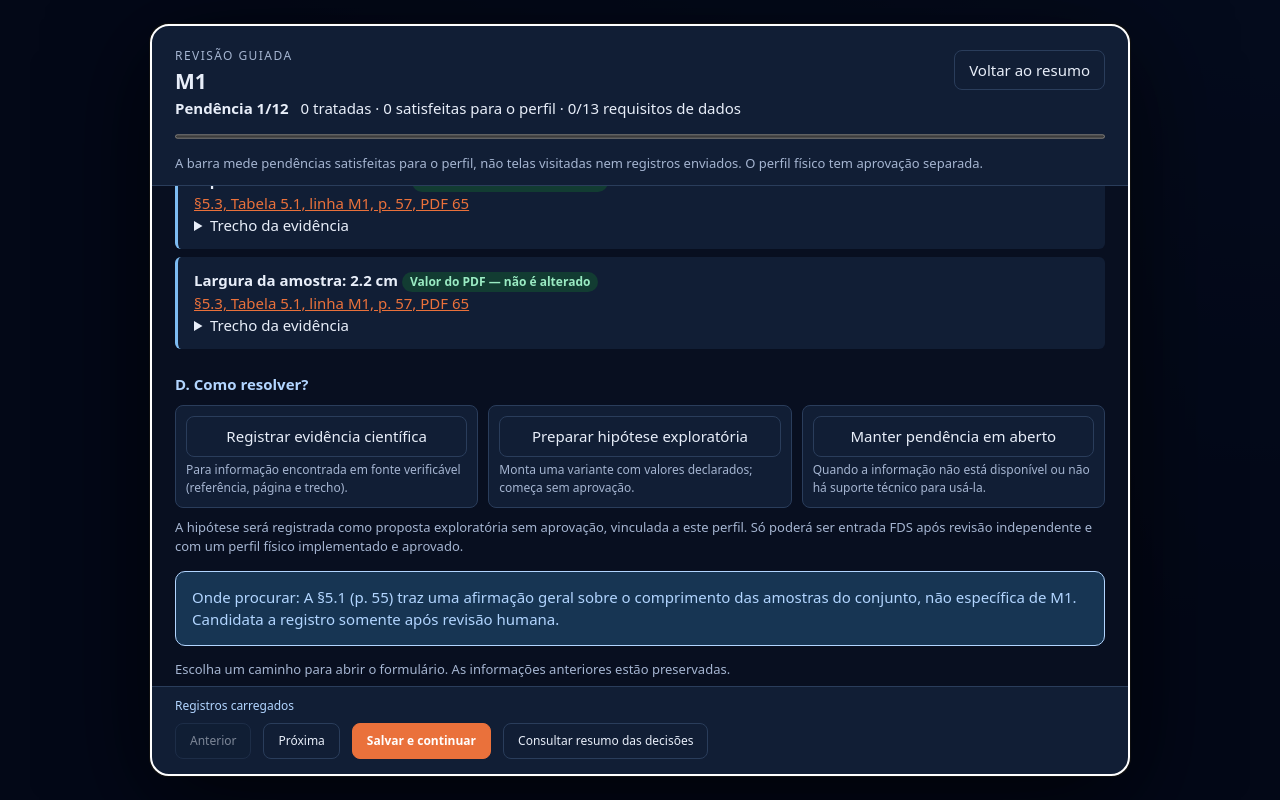
Test case: manter em aberto explica por que os botões estão desabilitados
(page scrolled)
Click the button "Manter pendência em aberto" at (953, 436), box [813,416,1094,456]
(page scrolled)
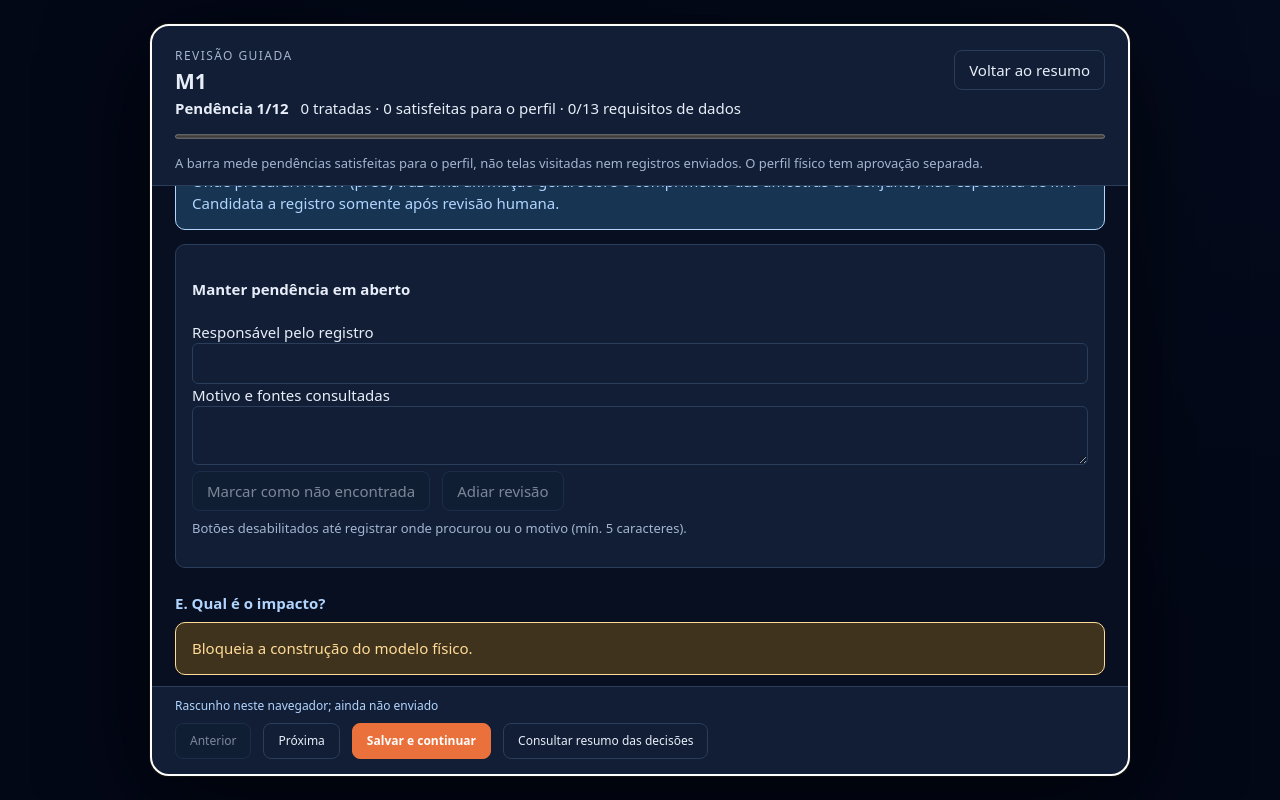
Expected: the button "Marcar como não encontrada" is disabled, [192,471,430,511]
Expected: the text "Botões desabilitados até registrar onde procurou" is shown, [192,519,687,537]
Type "Consultei o capítulo 5 e a tese relacionada" into the text box labelled "Motivo e fontes consultadas" at (640, 436), box [192,406,1088,465]
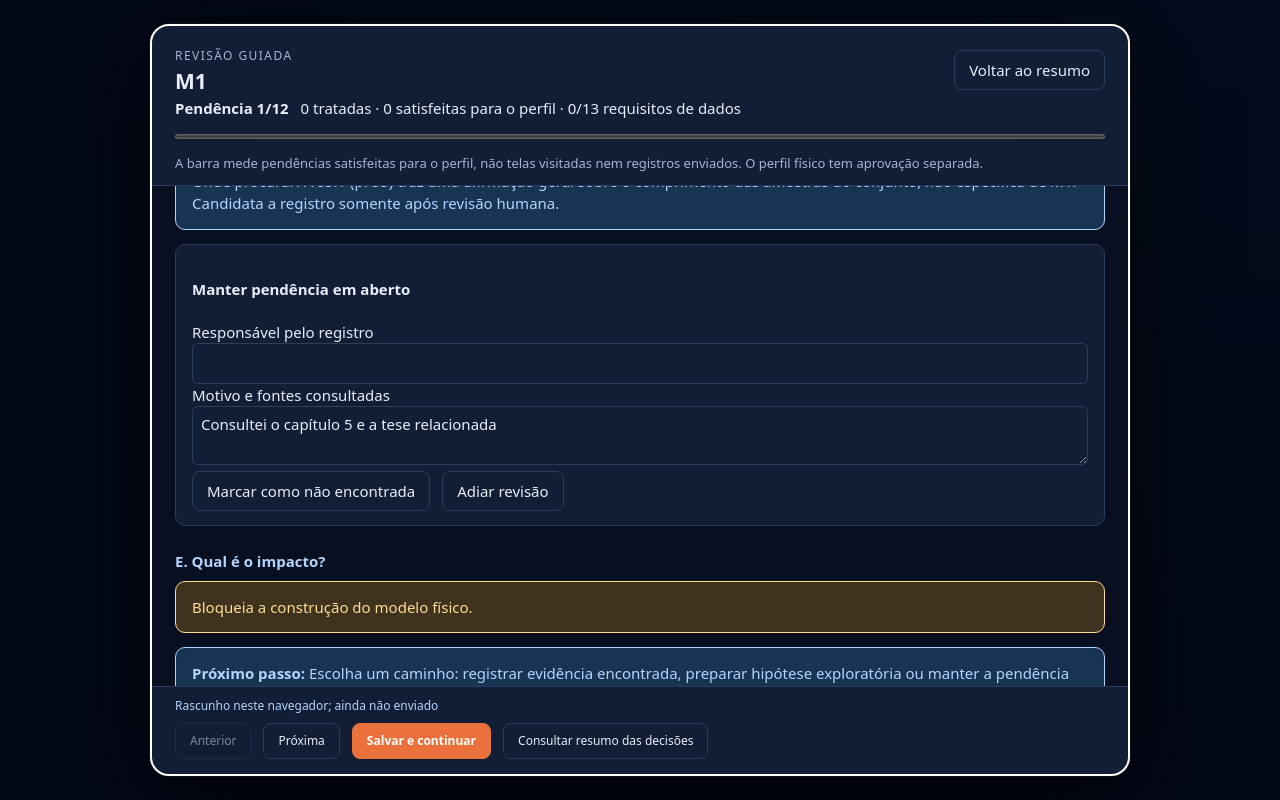
Expected: the button "Marcar como não encontrada" is enabled, [192,471,430,511]
